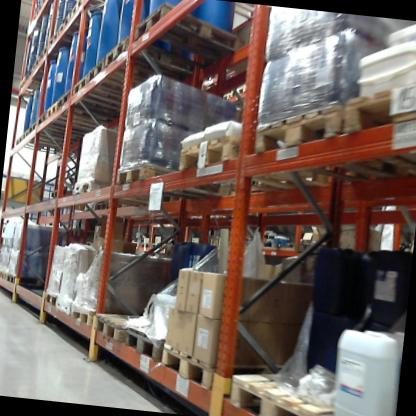pallet: (246, 93, 413, 197), (173, 132, 303, 209), (337, 68, 416, 172), (149, 335, 279, 392), (128, 5, 248, 66), (101, 34, 216, 95), (225, 373, 338, 416), (110, 164, 198, 206), (53, 85, 125, 131), (83, 56, 165, 94), (12, 130, 79, 167), (70, 75, 146, 104), (88, 308, 153, 341), (34, 111, 96, 141), (44, 100, 106, 128), (122, 321, 161, 365), (25, 122, 75, 149), (68, 179, 119, 202), (4, 269, 54, 292), (57, 13, 94, 40), (74, 0, 110, 26), (12, 77, 46, 102), (27, 58, 66, 79), (29, 2, 54, 34), (41, 49, 75, 72), (71, 305, 102, 330), (50, 32, 87, 51), (52, 295, 75, 319), (118, 197, 140, 217), (88, 197, 107, 214), (50, 184, 67, 201), (42, 287, 55, 309), (150, 239, 169, 253), (137, 239, 154, 253), (39, 0, 64, 9), (126, 239, 139, 253), (0, 266, 9, 283)
